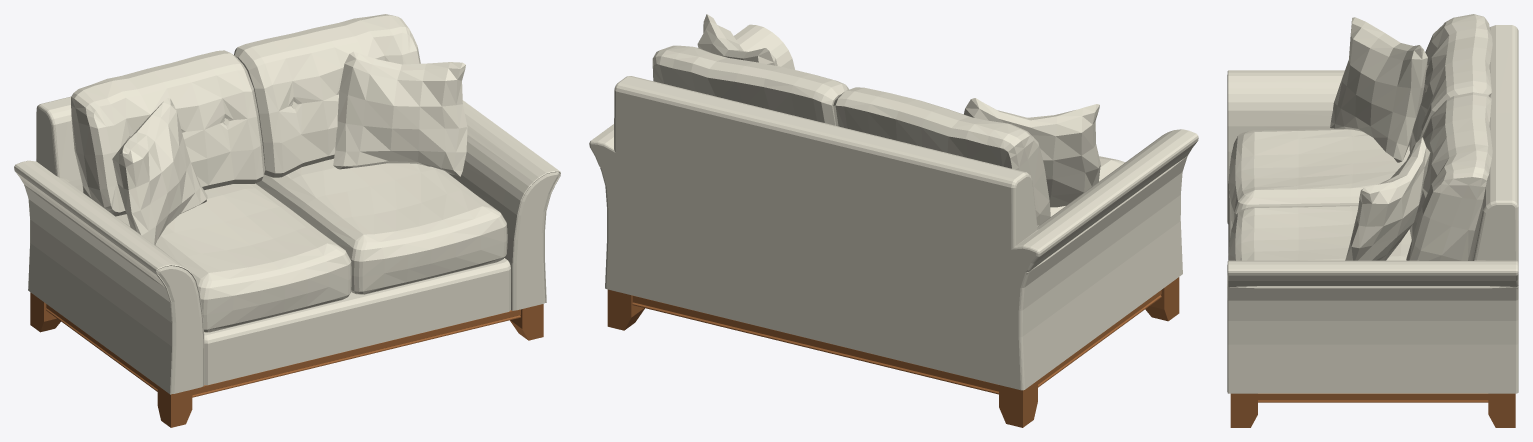
3 renders of one model, left to right at view 1: azimuth 30°, elevation 25°; view 2: azimuth 150°, elevation 25°; view 3: azimuth 270°, elevation 25°, orthographic. The views are drawn at different scales.
Visible parts, largest first — view 1: Node; view 2: Node; view 3: Node.
Part boxes in pixels (box(x1,y1,x2,y2)): Node: box(14, 14, 560, 427); Node: box(589, 14, 1198, 427); Node: box(1227, 14, 1518, 427).
Bounding box in the file's own units: 53.88 × 31.15 × 33.11.
